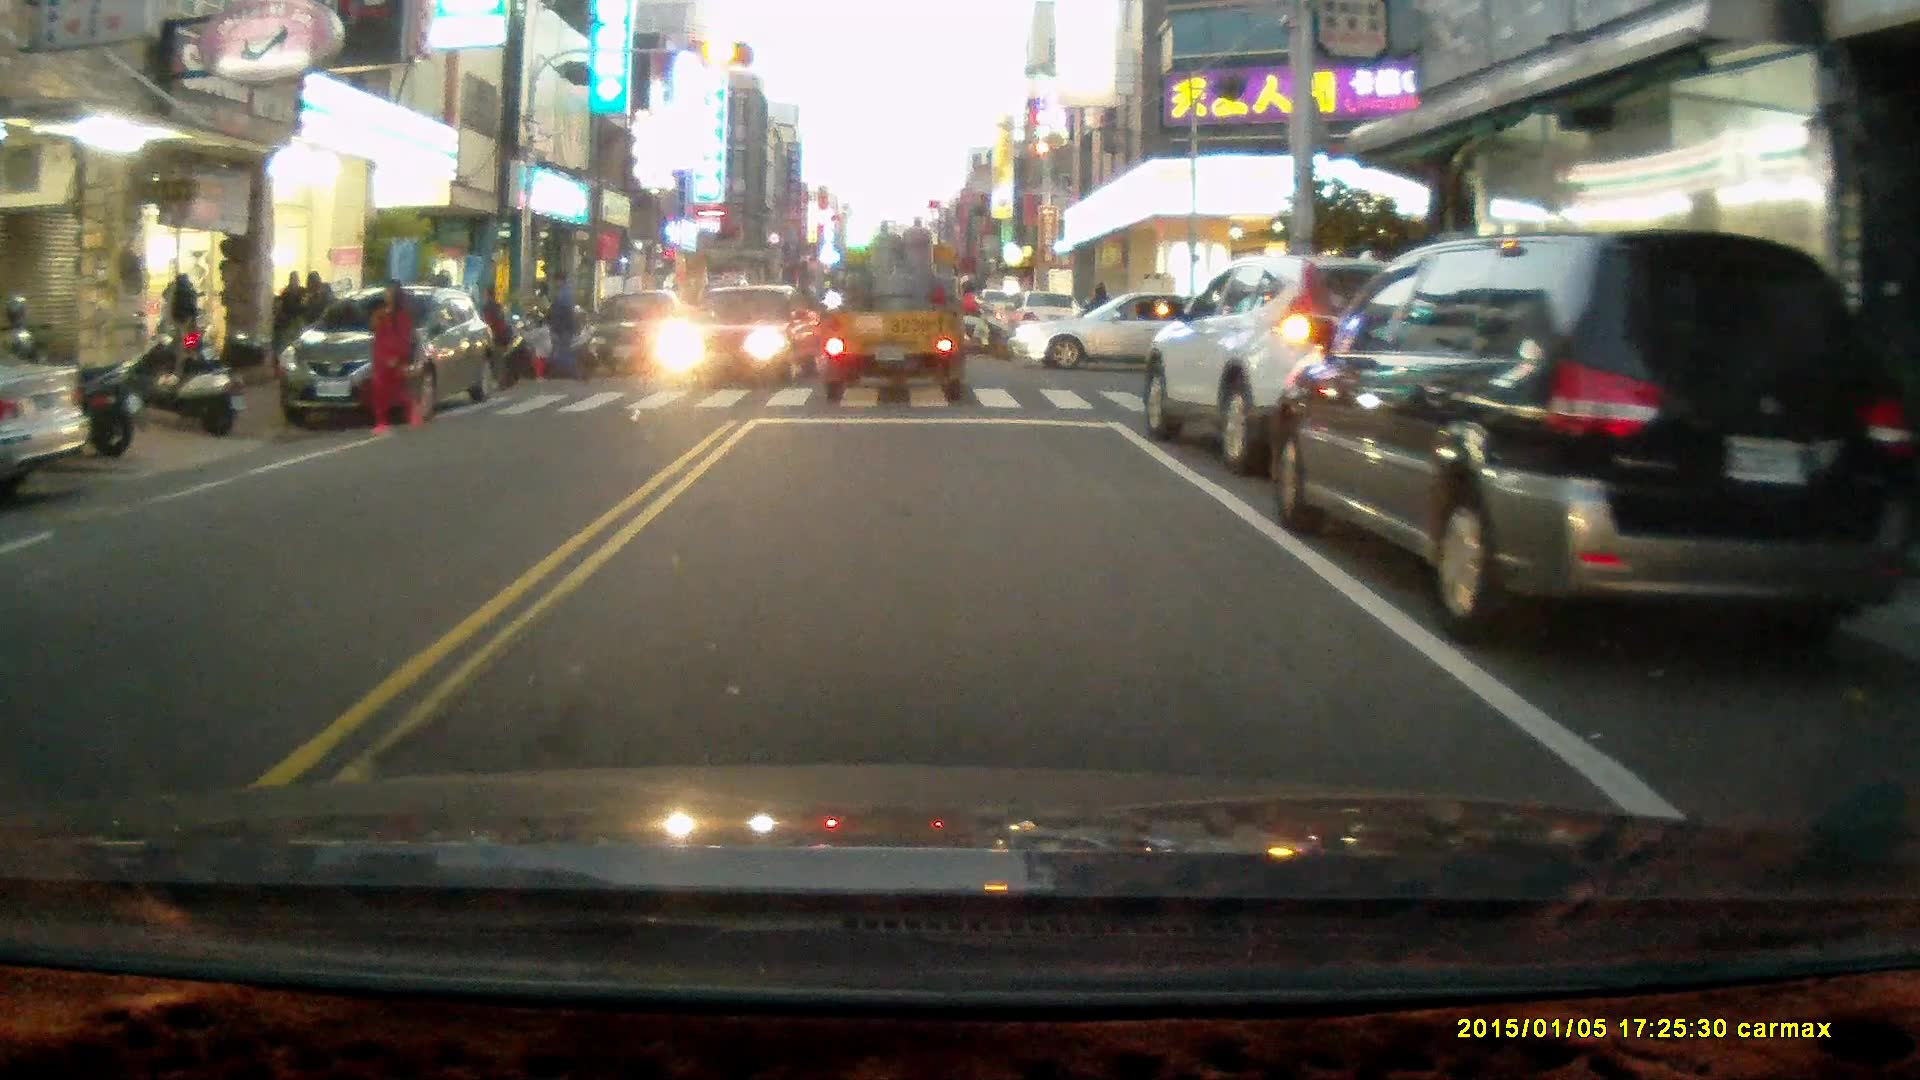pedestrian: (362, 273, 424, 434), (534, 264, 589, 385), (473, 279, 513, 388), (159, 267, 201, 370), (527, 311, 560, 380)
rider: (929, 268, 1015, 358)
vehicle: (1275, 230, 1877, 640), (1142, 251, 1477, 469), (277, 285, 489, 429), (818, 215, 976, 399), (1016, 286, 1243, 372), (657, 283, 817, 385), (574, 288, 699, 377), (1, 350, 88, 470)
